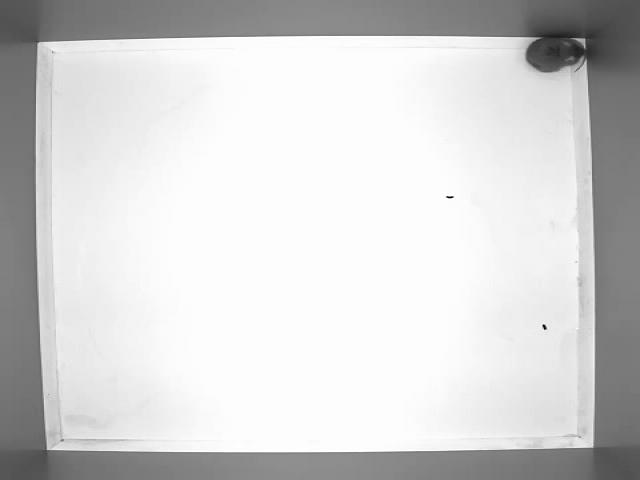Tikus: (526, 36, 588, 74)
